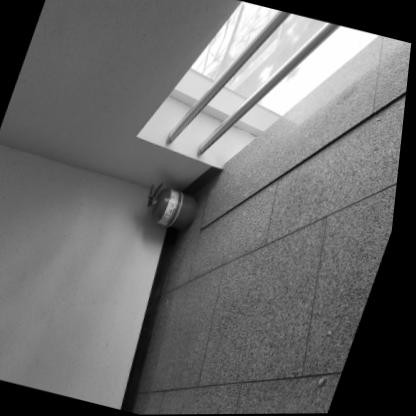FE: (143, 179, 209, 233)
